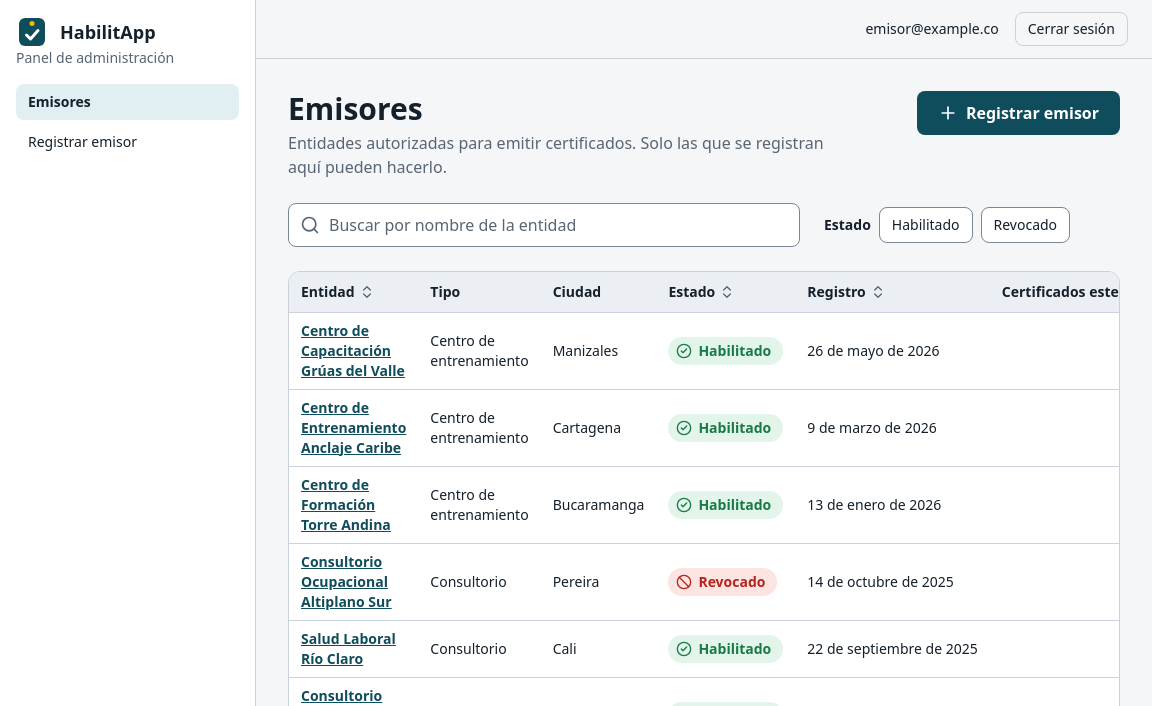
EntitiesPage › finds issuers by name ignoring accents and case, and says so when nothing matches
Step 1. Type "RIO claro" into the search field named "Buscar emisor por nombre" → (544, 225), box 288,203 -> 800,247
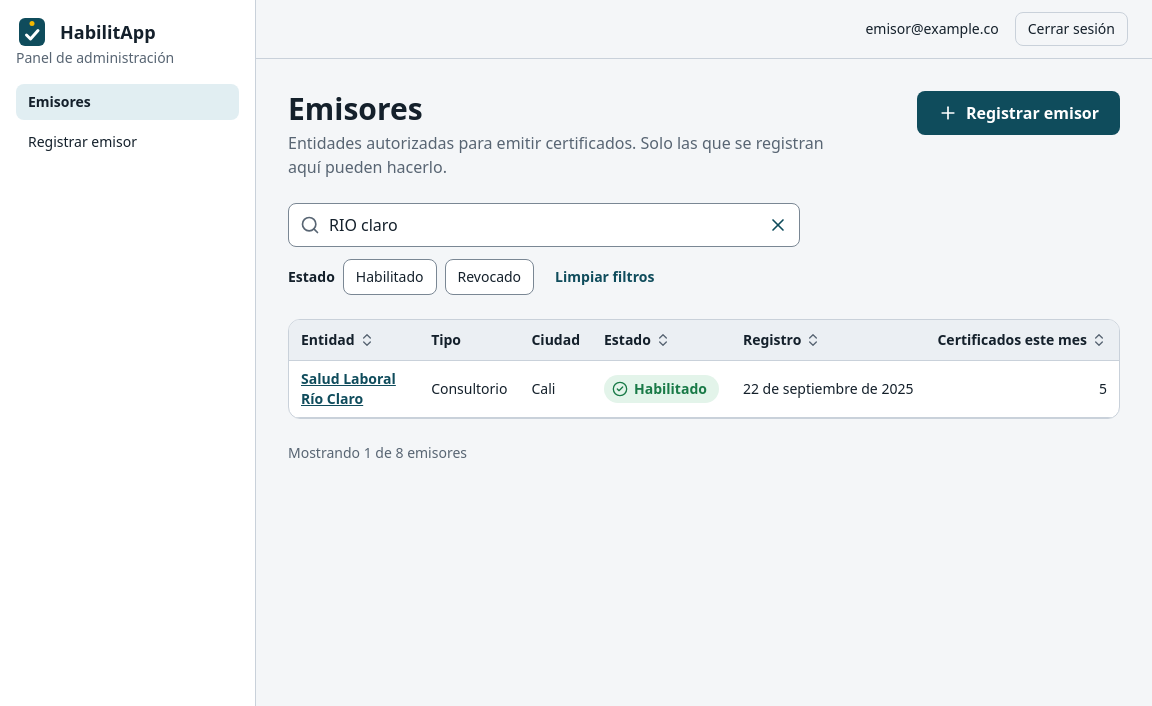
Expected: the row that starts with "Salud Laboral Río Claro" is shown, 301,368 -> 396,408
Result: the text "Mostrando 1 de 8 emisores" is shown at 288,442 -> 467,462
Step 2. Replace the text in the search field named "Buscar emisor por nombre" with "zzz" → (544, 225), box 288,203 -> 800,247
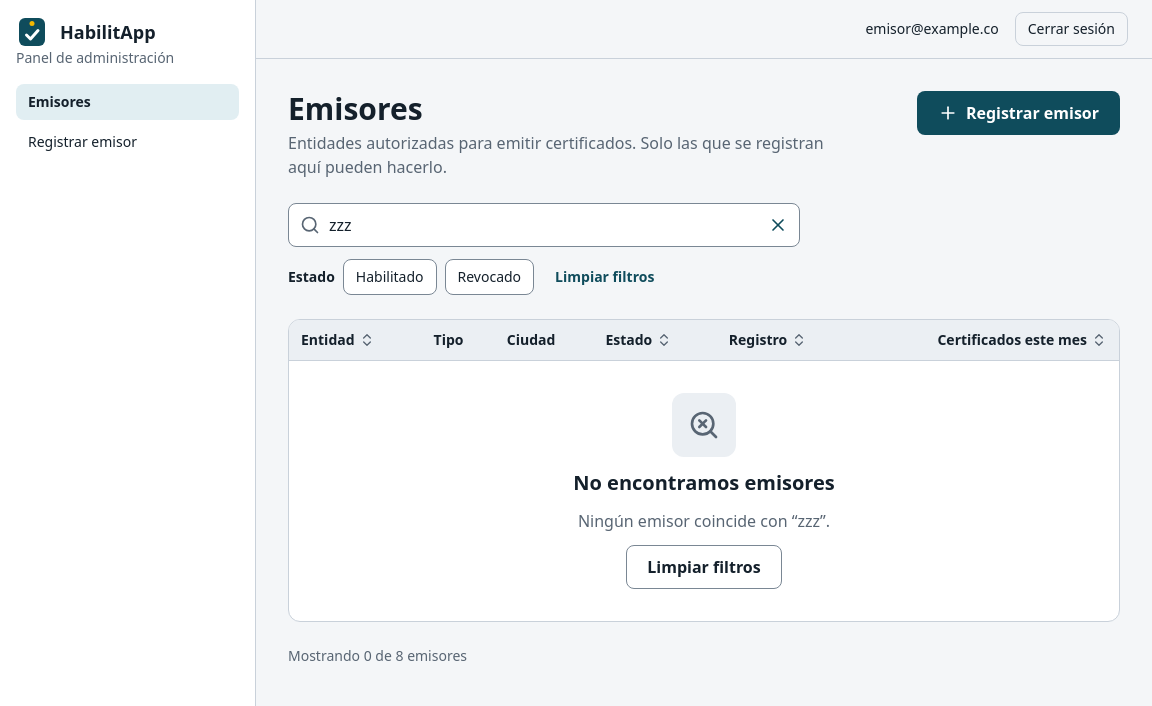
Result: the heading "No encontramos emisores" is shown at 573,468 -> 835,496
Result: the text "Ningún emisor coincide con “zzz”." is shown at 578,508 -> 830,532
